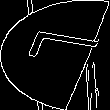L_E: (10, 34, 100, 76)
